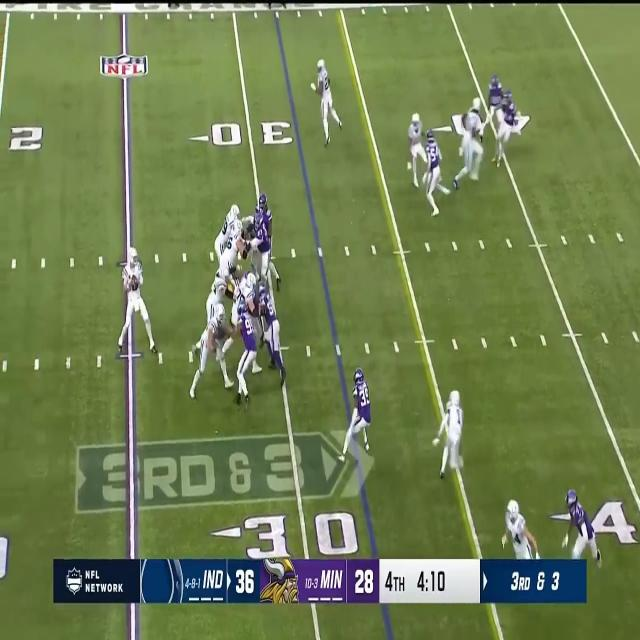football: (130, 272, 140, 294)
players: (116, 241, 159, 365), (189, 304, 231, 403), (233, 297, 263, 409), (433, 387, 466, 485), (246, 202, 281, 293), (312, 64, 348, 150), (454, 106, 490, 190), (562, 489, 599, 569), (255, 282, 283, 386), (420, 131, 452, 220), (343, 367, 373, 461), (498, 495, 541, 560), (213, 207, 246, 291), (494, 90, 524, 173), (204, 270, 235, 341), (408, 111, 426, 190), (484, 73, 502, 132)
